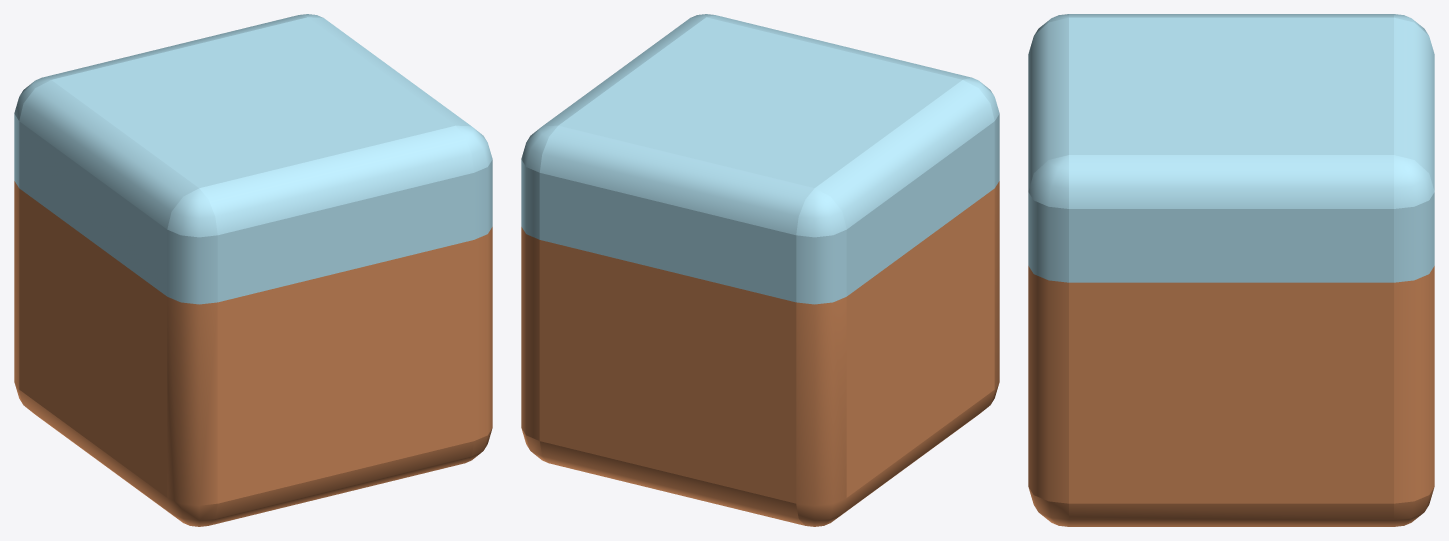
Rendered from blockSnowRounded.glb.
The picture shows the model from 3 angles, left to right: view 1: azimuth 30°, elevation 25°; view 2: azimuth 150°, elevation 25°; view 3: azimuth 270°, elevation 25°; orthographic projection. The views are drawn at different scales.
Parts seen in each view (by area): view 1: blockSnowRounded; view 2: blockSnowRounded; view 3: blockSnowRounded.
Boxes of the visible parts, box(x1,y1,x2,y2) form: blockSnowRounded: box(14, 14, 492, 526); blockSnowRounded: box(521, 14, 999, 526); blockSnowRounded: box(1028, 14, 1434, 526).
Bounding box in the file's own units: 1 × 1 × 1.
